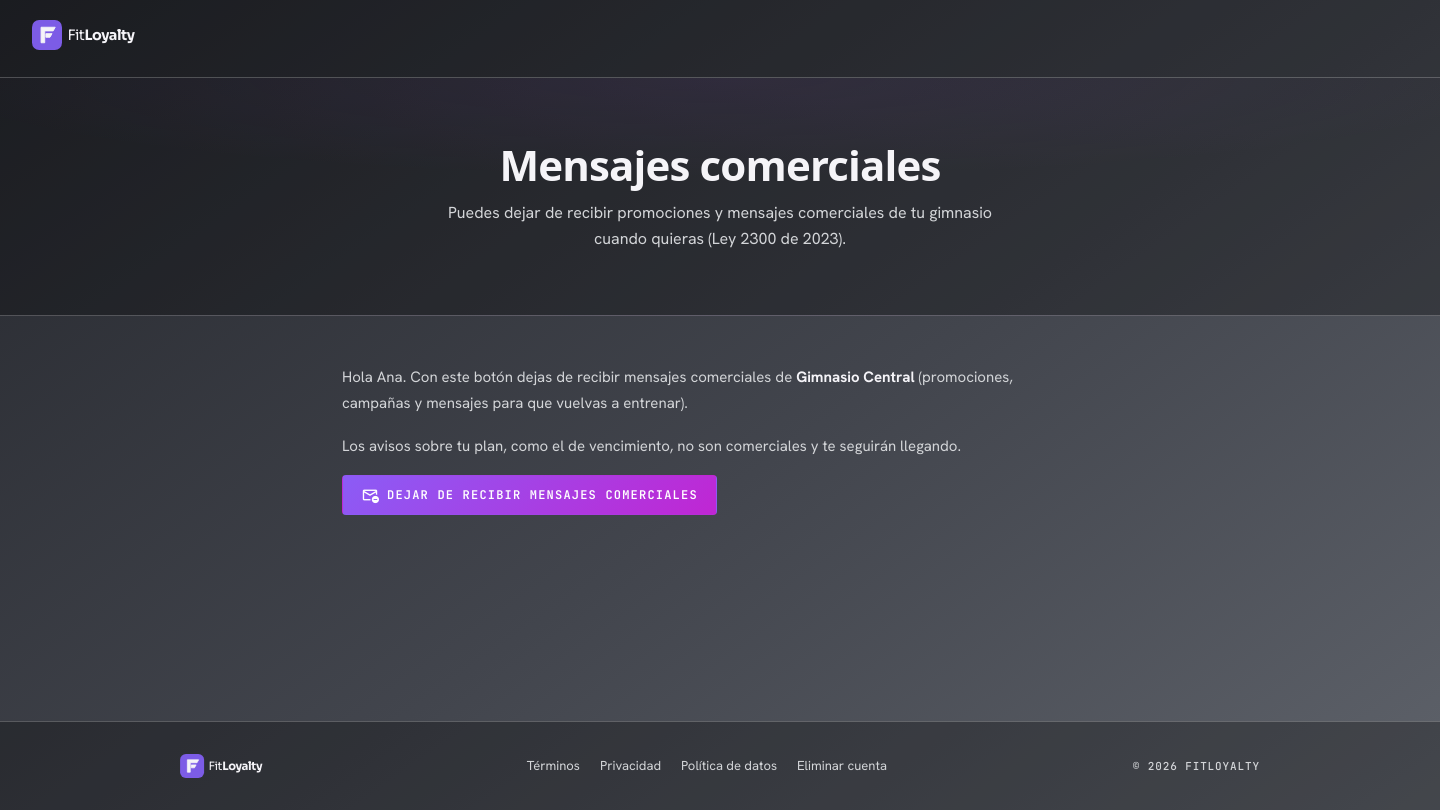
Test: BajaMensajesPage: darse de baja › should unsubscribe with the token and confirm it when the member presses the button
Click the button "Dejar de recibir mensajes comerciales": (529, 495) [342,475,717,515]
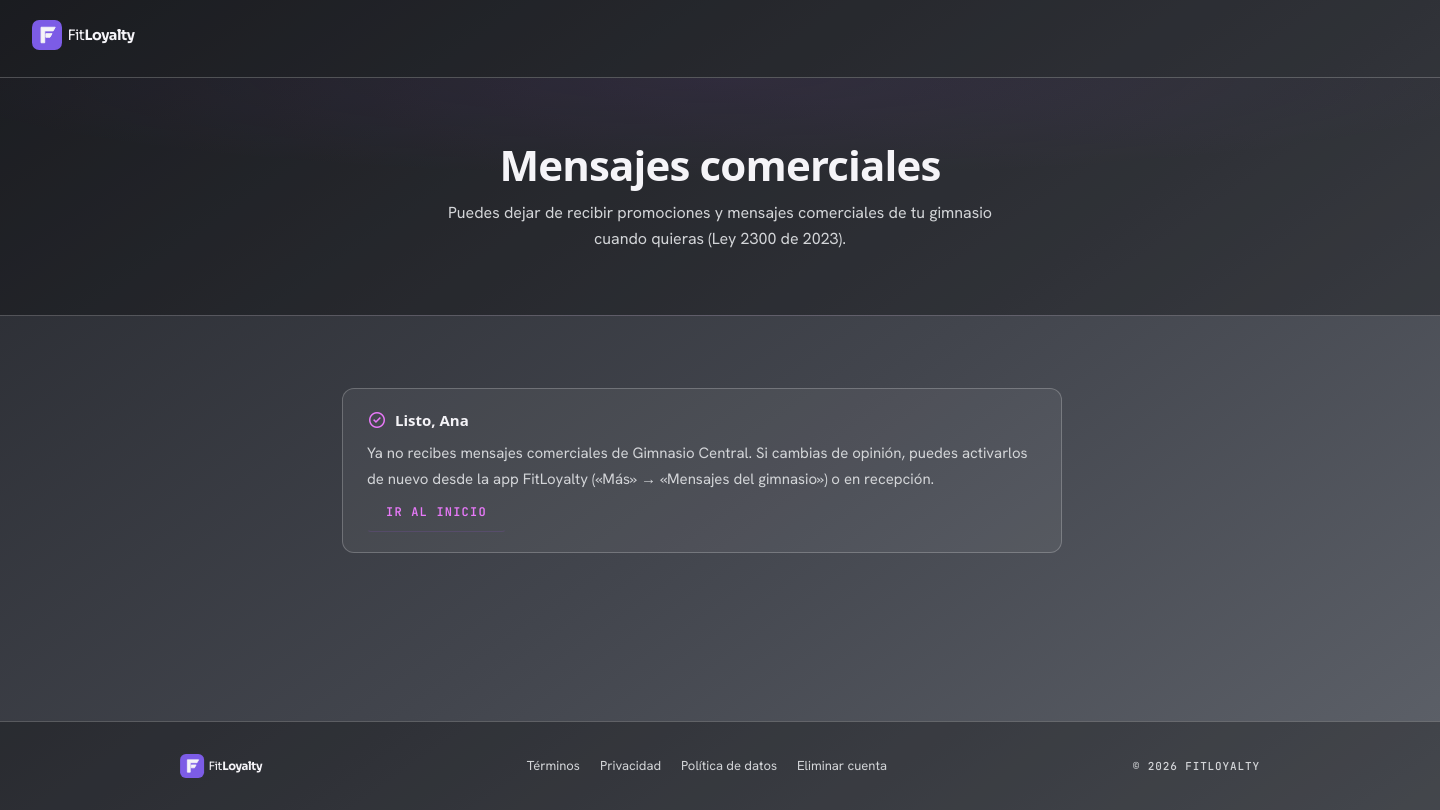
Expected: the text "Listo, Ana" is shown, [367,409,469,433]
Expected: the element that starts with "Listo," shows "Ya no recibes mensajes comerciales de Gimnasio Central.", [342,388,1062,553]
Expected: the text "Hola Ana." is gone
